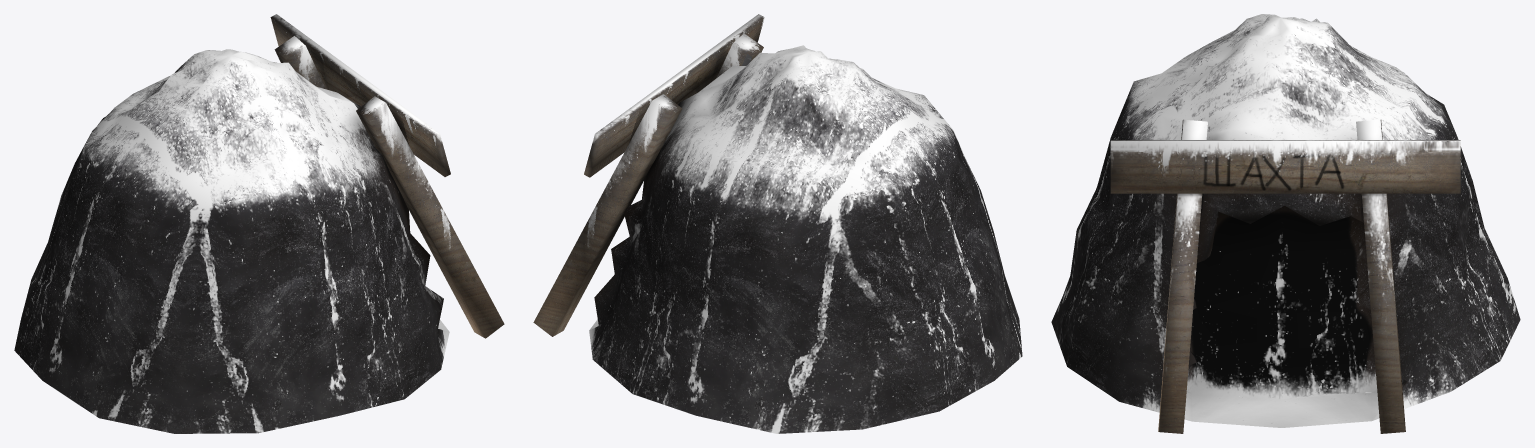
File: mine.fbx
3 views of the same model, side by side, from view 1: azimuth 30°, elevation 25°; view 2: azimuth 150°, elevation 25°; view 3: azimuth 270°, elevation 25° (orthographic). The views are drawn at different scales.
Visible parts, largest first — view 1: Cone001; view 2: Cone001; view 3: Cone001.
Part boxes in pixels (x1,y1,x2,y2): Cone001: (14, 14, 504, 433); Cone001: (533, 14, 1022, 433); Cone001: (1051, 14, 1520, 433).
Bounding box in the file's own units: 325 × 224 × 305.
